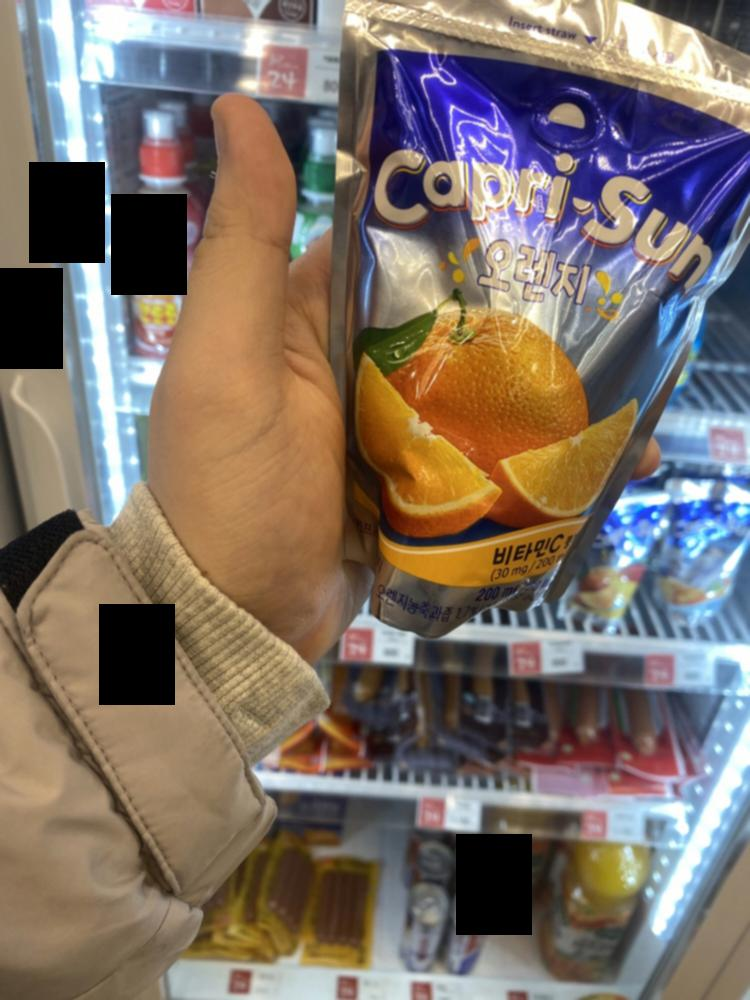cafrisun: (331, 5, 745, 618)
